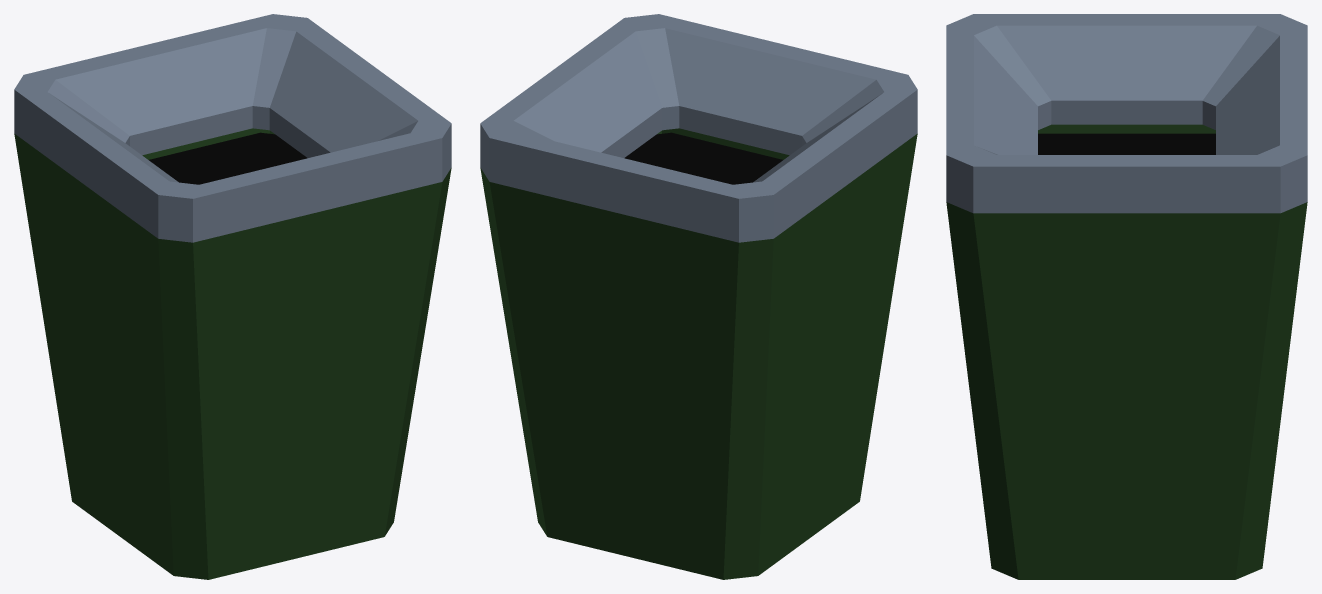
The model's file is bin_modguide.fbx.
3 renders of one model, left to right at view 1: azimuth 30°, elevation 25°; view 2: azimuth 150°, elevation 25°; view 3: azimuth 270°, elevation 25°, orthographic. The views are drawn at different scales.
Visible parts, largest first — view 1: bin_modguide; view 2: bin_modguide; view 3: bin_modguide.
Boxes of the visible parts, left/top/right/bottom form: bin_modguide: left=14, top=14, right=451, bottom=579; bin_modguide: left=480, top=14, right=917, bottom=579; bin_modguide: left=946, top=14, right=1307, bottom=579.
Size of the model in its own units: 0.2261 by 0.2985 by 0.2261.
